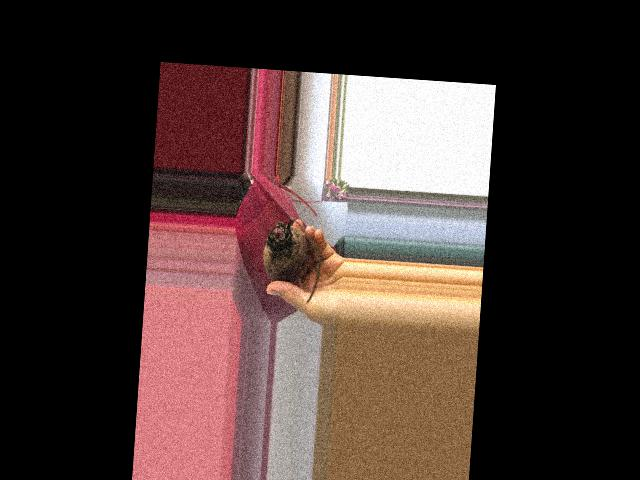beet: (260, 214, 323, 303)
